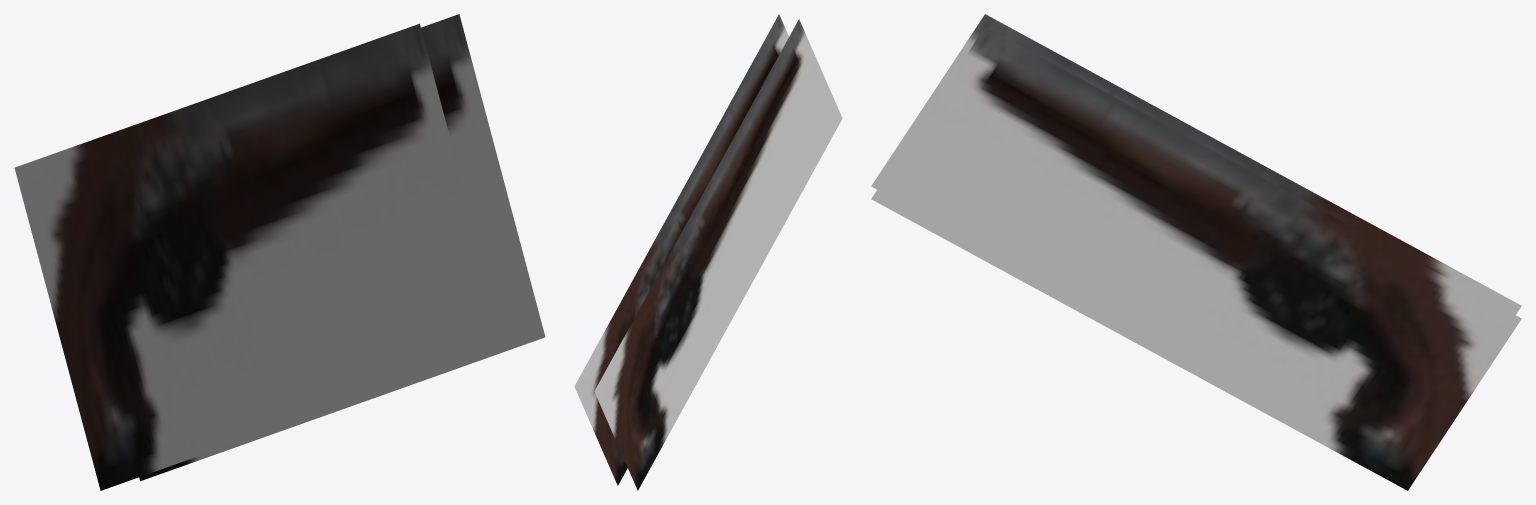
Rendered from sign1_shanty_a_icon_weapons.fbx.
The picture shows the model from 3 angles, left to right: view 1: azimuth 30°, elevation 25°; view 2: azimuth 150°, elevation 25°; view 3: azimuth 270°, elevation 25°; orthographic projection. The views are drawn at different scales.
Parts seen in each view (by area): view 1: icons; view 2: icons; view 3: icons.
Boxes of the visible parts, left/top/right/bottom form: icons: left=14, top=14, right=545, bottom=490; icons: left=574, top=14, right=842, bottom=490; icons: left=871, top=14, right=1521, bottom=490.
Bounding box in the file's own units: 16.67 × 282 × 358.
1 material, 1 textured.
